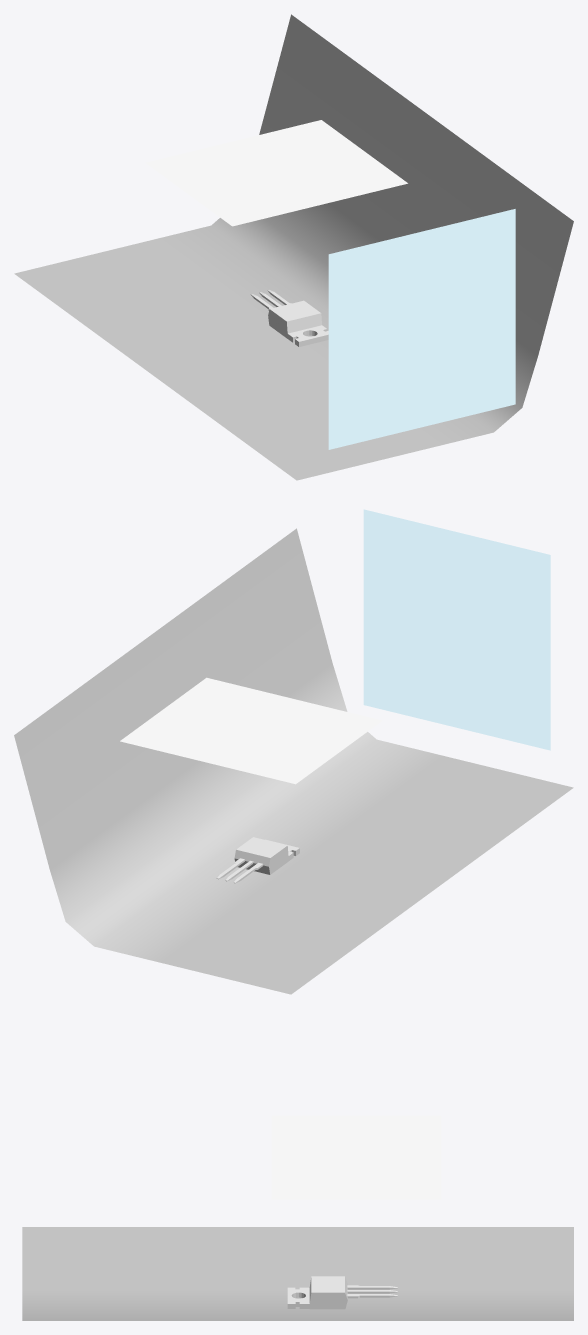
The model's file is trans_TO-220.gltf.
3 views of the same model, one above another, from view 1: azimuth 30°, elevation 25°; view 2: azimuth 150°, elevation 25°; view 3: azimuth 270°, elevation 25° (orthographic). The views are drawn at different scales.
Parts seen in each view (by area): view 1: Plane.004, Plane.011, Plane.010, Plane.003, Plane.006; view 2: Plane.004, Plane.011, Plane.010, Plane.003; view 3: Plane.004, Plane.010, Plane.003, Plane.005, Plane.006.
Part boxes in pixels (box(x1,y1,x2,y2)): Plane.004: box(14, 14, 573, 480); Plane.011: box(328, 209, 515, 449); Plane.010: box(145, 120, 407, 226); Plane.003: box(268, 300, 321, 338); Plane.006: box(287, 325, 328, 346); Plane.004: box(14, 528, 573, 994); Plane.011: box(363, 509, 550, 750); Plane.010: box(120, 677, 382, 784); Plane.003: box(234, 837, 288, 874); Plane.004: box(22, 1227, 573, 1320); Plane.010: box(271, 1115, 441, 1199); Plane.003: box(309, 1276, 347, 1309); Plane.005: box(347, 1285, 397, 1298); Plane.006: box(287, 1287, 309, 1308).
Bounding box in the file's own units: 5.92 × 4.55 × 10.63.
